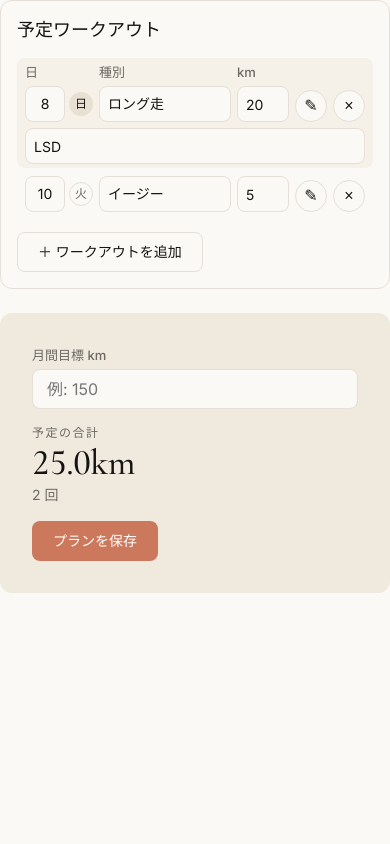
Test: PlanEditor › opens the memo of a row from its memo button and keeps memos with text open
Click the button named "2件目のメモを開く".
click(311, 196)  # box [295,180,327,212]
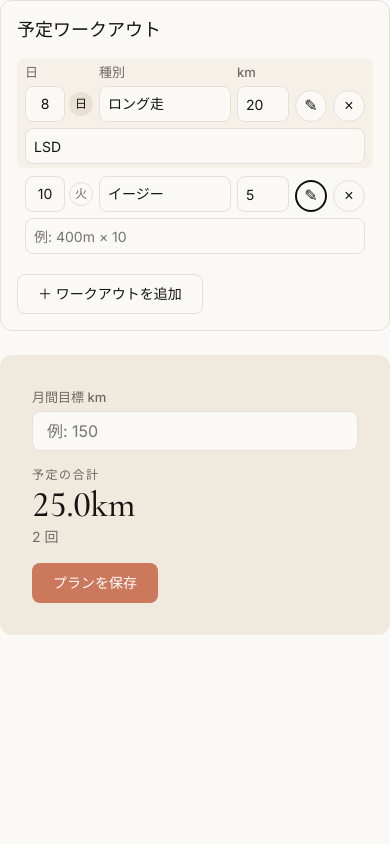
Expected: the button named "2件目のメモを開く" is expanded, [295,180,327,212]
